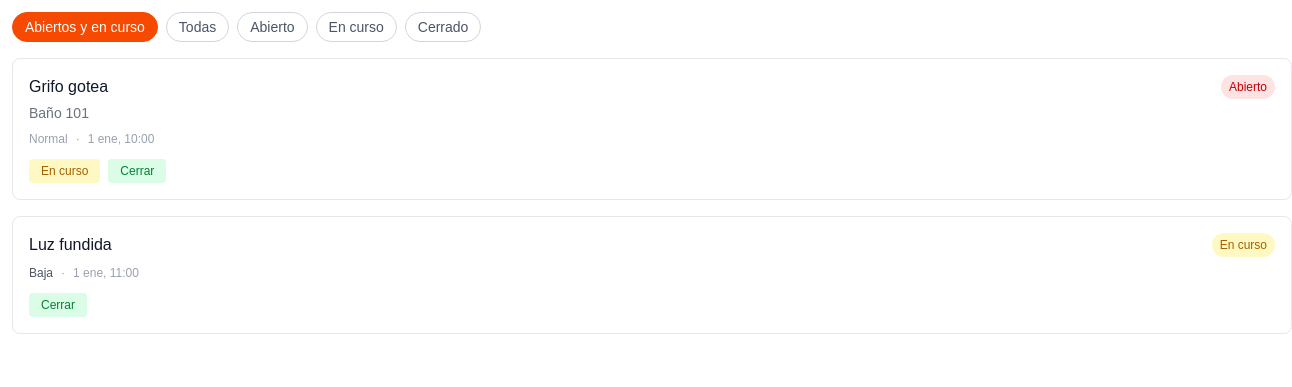
Test: TicketList › si otro usuario ya cambió el parte (la función devuelve false), avisa y recarga
The width and height of the screenshot is (1292, 387).
Step 1. Click the button "En curso" below "Normal" → (65, 171), box [29,159,100,183]
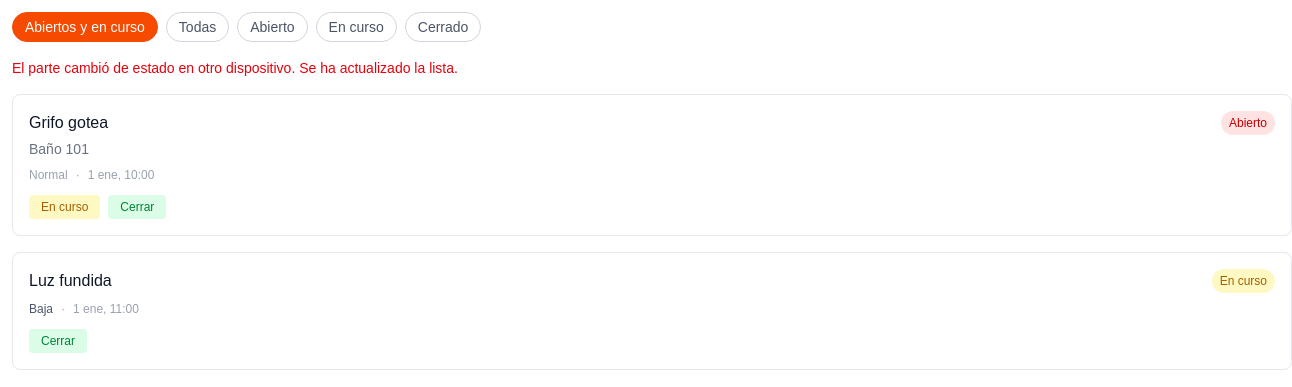
Expected: the message shows "cambió de estado", [12,60,458,76]
